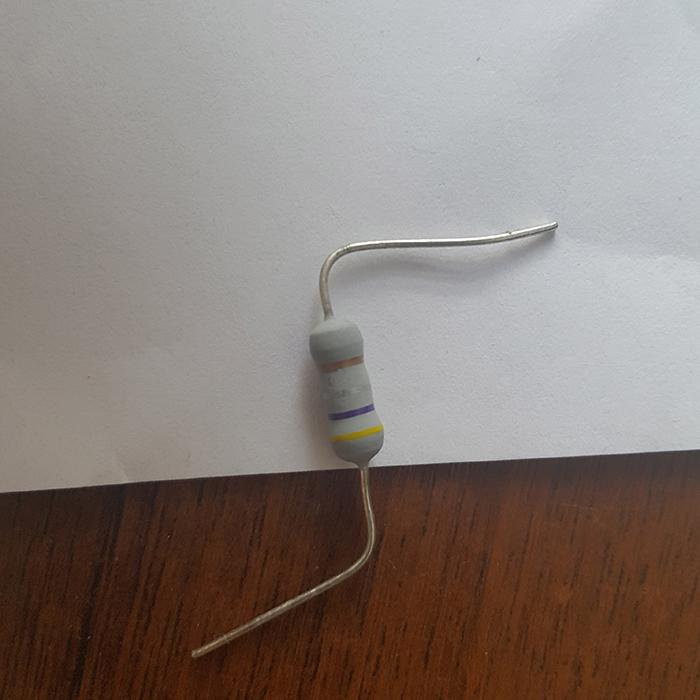resistor: (306, 314, 385, 467)
